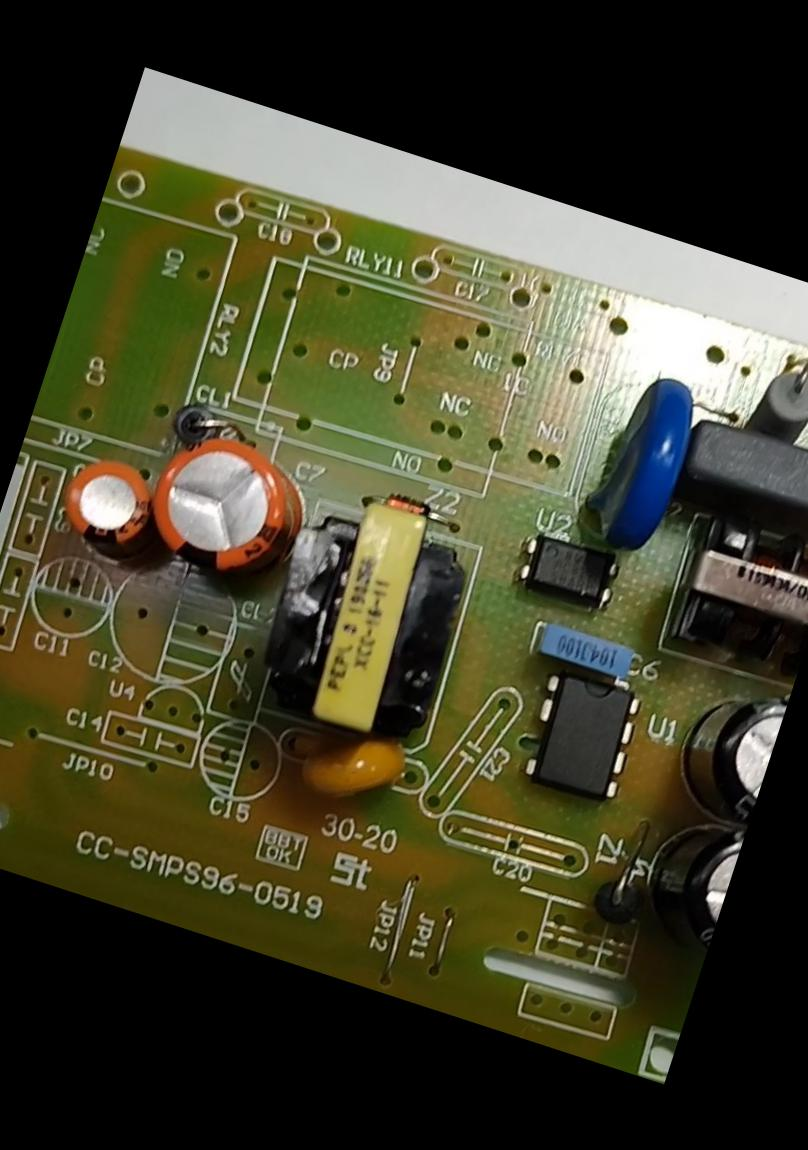Cap1: (128, 405, 321, 607)
Cap2: (45, 441, 180, 576)
Cap3: (656, 667, 788, 828)
Cap4: (618, 792, 748, 965)
MOSFET: (500, 656, 656, 824)
Mov: (568, 356, 716, 568)
Resistor: (741, 346, 807, 446)
Transformer: (231, 460, 497, 763), (649, 486, 807, 693)
